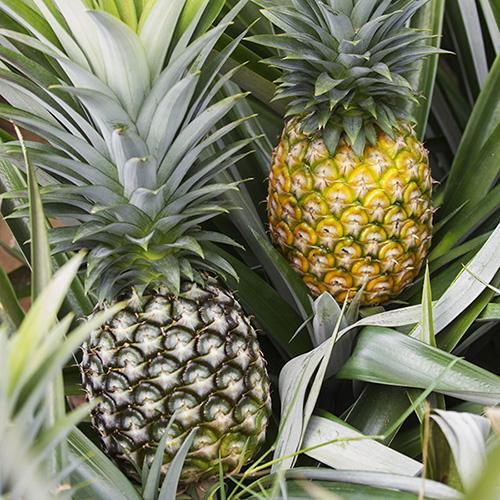pineapple: (0, 0, 278, 500), (254, 0, 455, 304)
